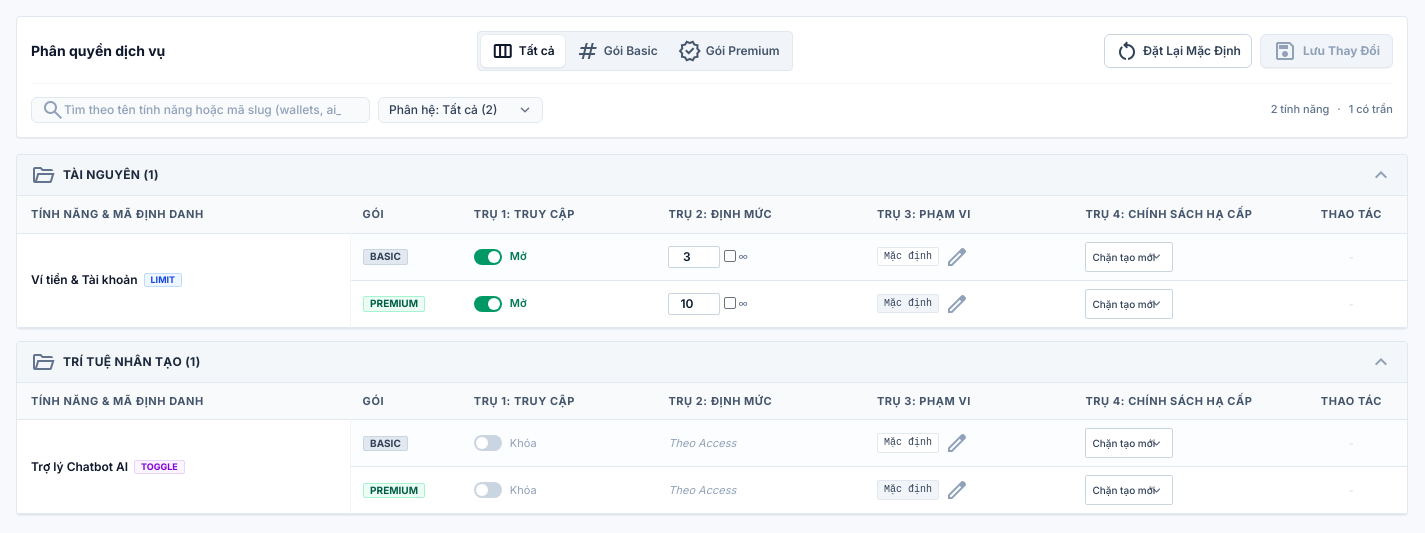
Test case: Admin-web Permission Suite — PermissionManagementPage (AIOps Style) › 1.4. Thay đổi quyền kích hoạt dirty tracker và nút Lưu Thay Đổi
Expected: the text "Ví tiền & Tài khoản" is shown, [31, 272, 138, 288]
Click the checkbox named "Toggle wallets Basic". click: {"x": 488, "y": 256}
box: [474, 248, 502, 264]
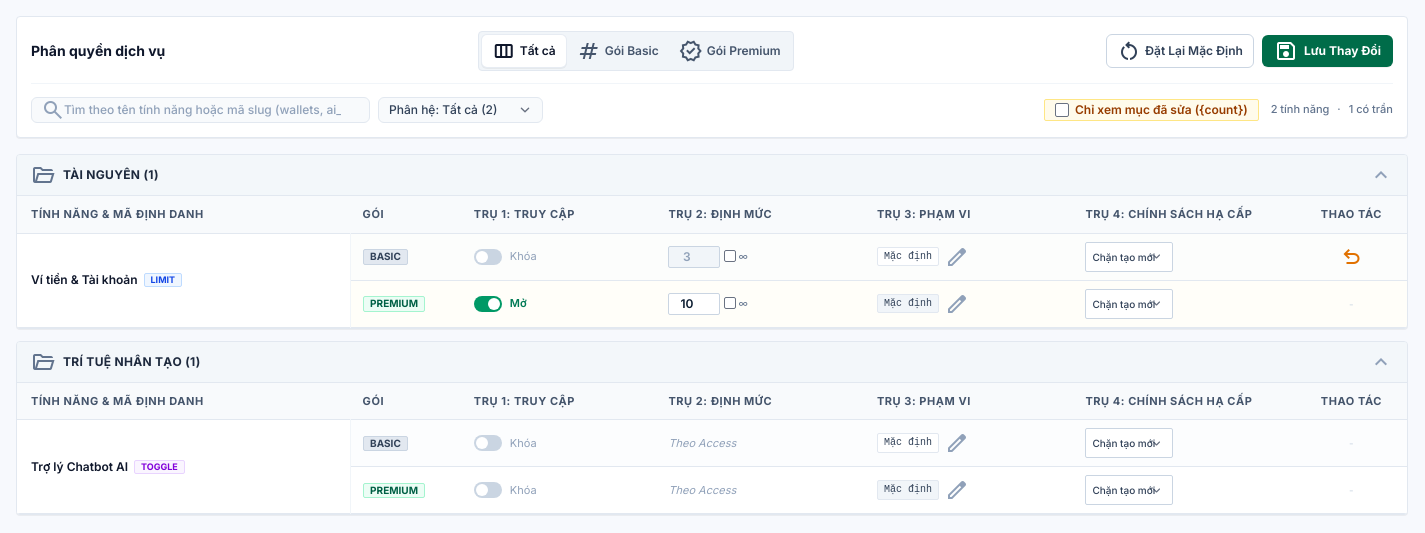
Expected: the button "Lưu Thay Đổi" is enabled, [1262, 35, 1393, 67]
